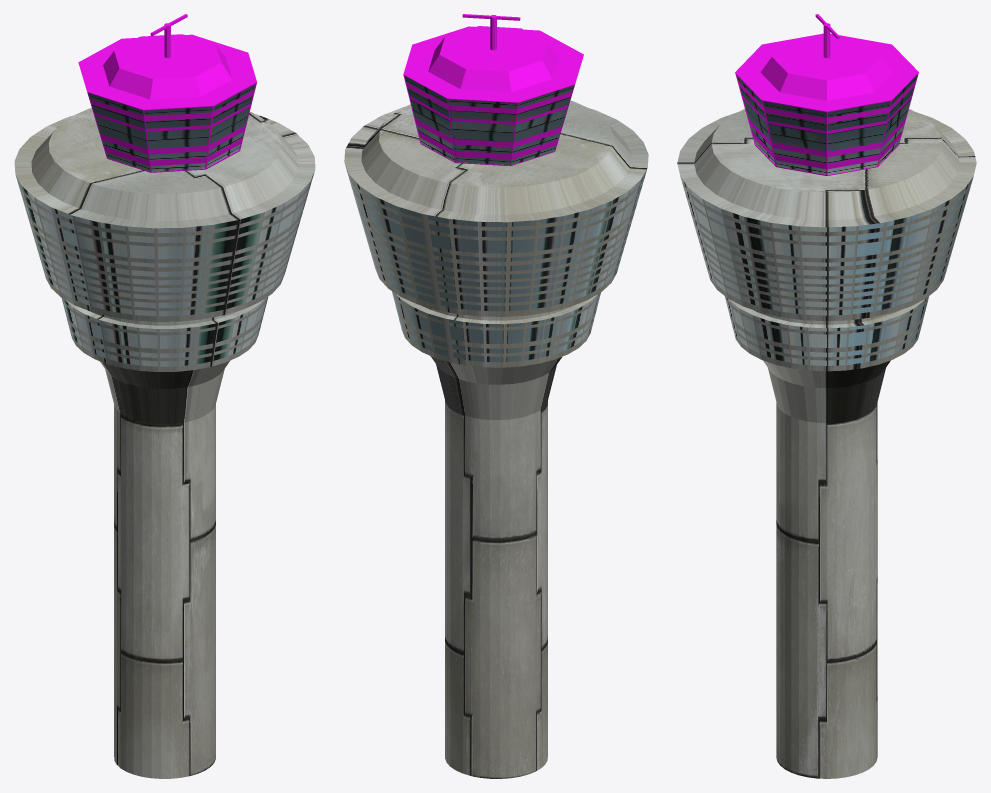
The model's file is Tower_Control.obj.
The picture shows the model from 3 angles, left to right: view 1: azimuth 30°, elevation 25°; view 2: azimuth 150°, elevation 25°; view 3: azimuth 270°, elevation 25°; orthographic projection.
Parts seen in each view (by area): view 1: Zylinder.001_Zylinder.003; view 2: Zylinder.001_Zylinder.003; view 3: Zylinder.001_Zylinder.003.
Boxes of the visible parts, x1,y1,x2,y2 form: Zylinder.001_Zylinder.003: (14,14,315,778); Zylinder.001_Zylinder.003: (344,14,648,778); Zylinder.001_Zylinder.003: (677,14,976,778).
Bounding box in the file's own units: 13.79 × 36.81 × 13.61.
Materials: 4 (3 with a texture image).
